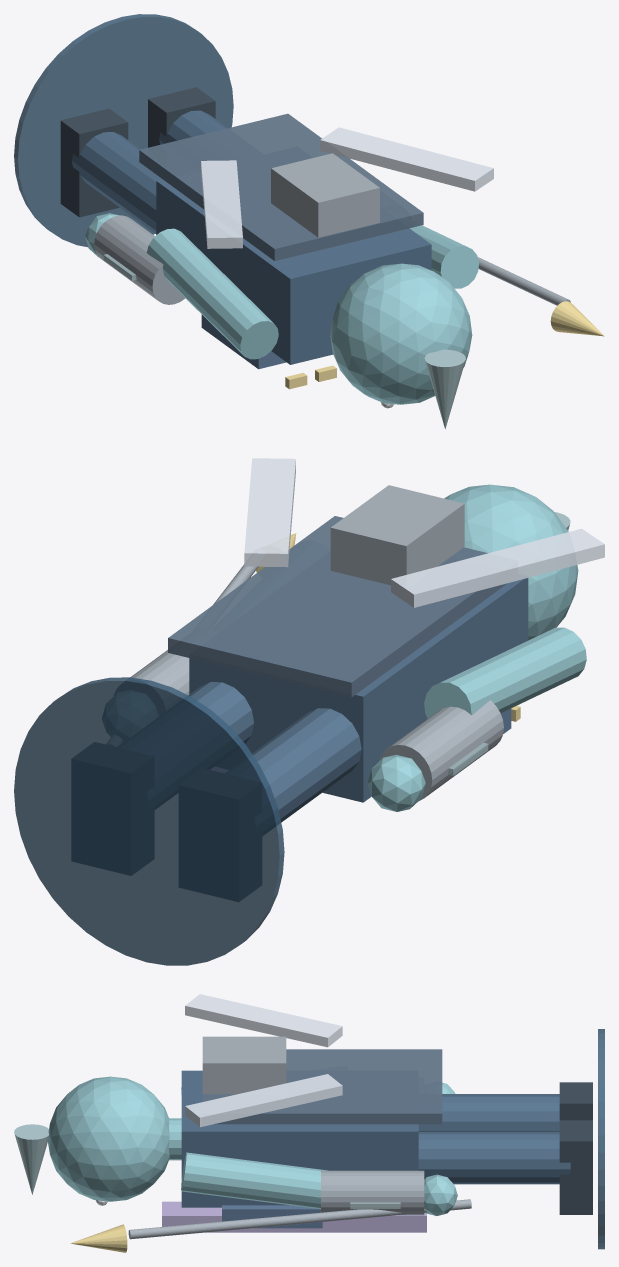
The model's file is SW_NPC_023_wren_galesong.glb.
3 renders of one model, top to bottom at view 1: azimuth 30°, elevation 25°; view 2: azimuth 150°, elevation 25°; view 3: azimuth 270°, elevation 25°, orthographic. The views are drawn at different scales.
Parts seen in each view (by area): view 1: round_base_plate, torso_uniform, head, storm_cloak, left_upper_arm, wingpack_core, left_leg, right_wing_rig, left_forearm_gauntlet, left_boot, left_wing_rig, right_upper_arm (+6 smaller); view 2: round_base_plate, storm_cloak, torso_uniform, wingpack_core, head, left_upper_arm, left_leg, left_wing_rig, left_forearm_gauntlet, right_wing_rig, left_hand, right_leg (+1 smaller); view 3: head, torso_uniform, storm_cloak, right_leg, right_upper_arm, wingpack_core, left_leg, right_forearm_gauntlet, right_wing_rig, left_wing_rig, rank_sash, right_boot (+9 smaller).
Boxes of the visible parts, bbox=[...] form: round_base_plate: bbox=[14, 14, 233, 247]; torso_uniform: bbox=[156, 179, 431, 364]; head: bbox=[330, 263, 472, 404]; storm_cloak: bbox=[139, 113, 423, 260]; left_upper_arm: bbox=[146, 228, 278, 359]; wingpack_core: bbox=[271, 153, 379, 237]; left_leg: bbox=[72, 132, 162, 233]; right_wing_rig: bbox=[320, 127, 493, 191]; left_forearm_gauntlet: bbox=[94, 215, 185, 304]; left_boot: bbox=[60, 108, 128, 217]; left_wing_rig: bbox=[201, 160, 242, 248]; right_upper_arm: bbox=[410, 225, 478, 288]; round_base_plate: bbox=[14, 677, 284, 965]; storm_cloak: bbox=[168, 516, 507, 697]; torso_uniform: bbox=[189, 578, 528, 802]; wingpack_core: bbox=[330, 485, 464, 585]; head: bbox=[444, 484, 578, 640]; left_upper_arm: bbox=[424, 627, 586, 718]; left_leg: bbox=[252, 708, 361, 822]; left_wing_rig: bbox=[391, 528, 604, 607]; left_forearm_gauntlet: bbox=[379, 700, 503, 800]; right_wing_rig: bbox=[244, 458, 295, 567]; left_hand: bbox=[367, 755, 425, 811]; right_leg: bbox=[188, 682, 254, 743]; head: bbox=[48, 1076, 169, 1201]; torso_uniform: bbox=[181, 1070, 418, 1207]; storm_cloak: bbox=[202, 1049, 442, 1124]; right_leg: bbox=[418, 1132, 570, 1184]; right_upper_arm: bbox=[181, 1152, 327, 1209]; wingpack_core: bbox=[202, 1036, 286, 1094]; left_leg: bbox=[418, 1094, 559, 1131]; right_forearm_gauntlet: bbox=[321, 1170, 424, 1215]; right_wing_rig: bbox=[185, 1074, 342, 1127]; left_wing_rig: bbox=[185, 994, 342, 1047]; rank_sash: bbox=[162, 1201, 426, 1232]; right_boot: bbox=[559, 1120, 592, 1214].
Bounding box in the file's own units: 1.22 × 0.8064 × 2.16.
